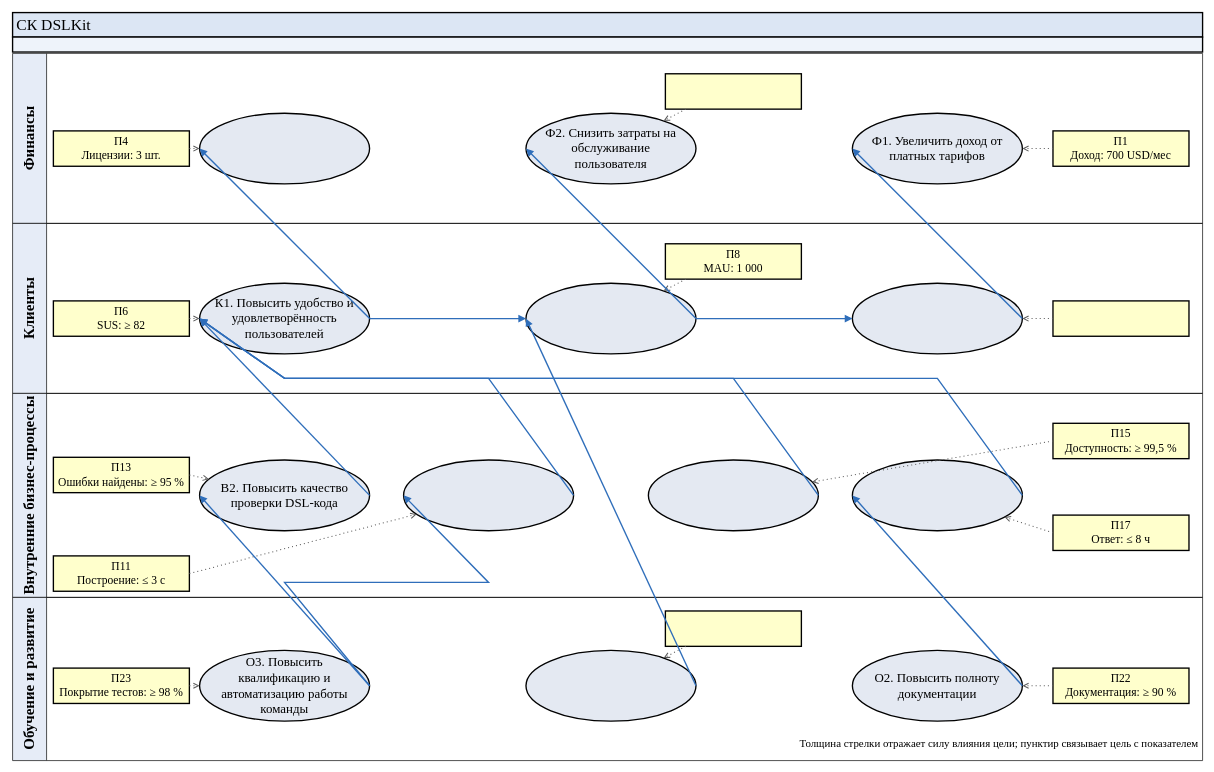
Some shapes in this 1214 by 772 pixel diagram are drawn without their labels. Here are the shapes that lost their labels. From the top down, the centre of each, then its label:
the point at 733,91: П3 Затраты: ≤ 0,2 USD
the point at 284,148: Ф3. Диверсифицировать доходы: лицензии вузов и команд
the point at 610,318: К2. Увеличить число активных пользователей
the point at 937,318: К3. Увеличить долю платных пользователей Pro и Max
the point at 1120,318: П10 Конверсия: 6 %
the point at 488,495: В1. Ускорить построение диаграммы
the point at 733,495: В3. Обеспечить надёжность и безопасность сервиса
the point at 937,495: В4. Сократить время реакции поддержки
the point at 733,628: П20 Нотаций: 7
the point at 610,685: О1. Расширить набор нотаций
